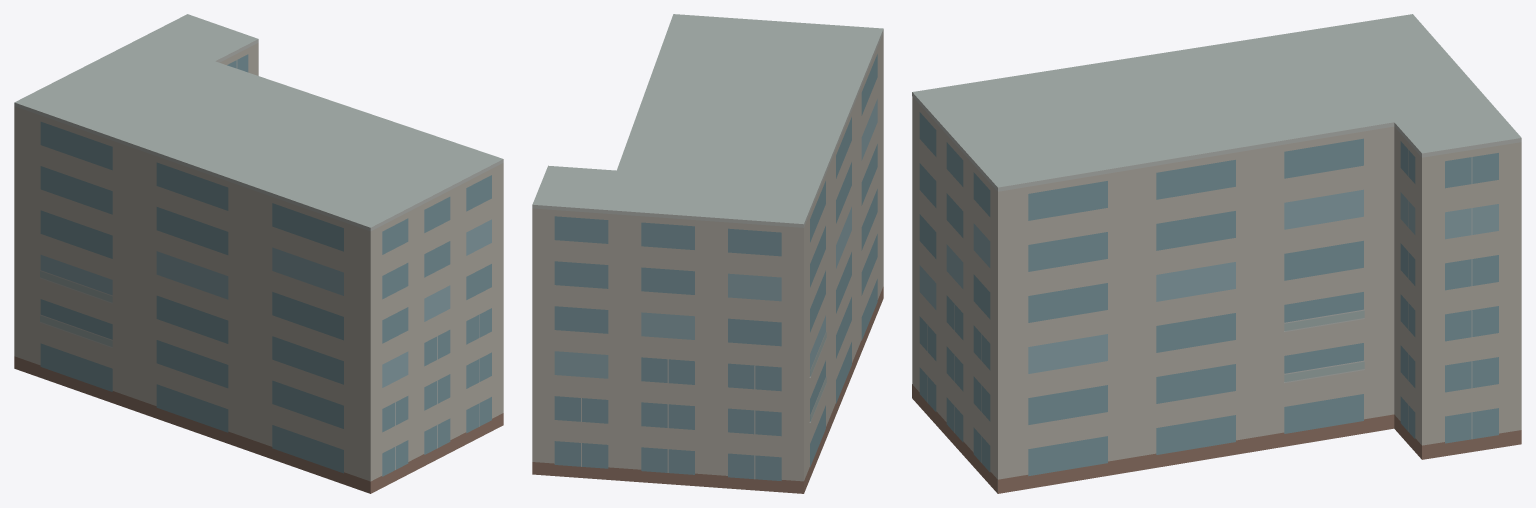
The model's file is survey-upis-33022928.glb.
3 views of the same model, side by side, from view 1: azimuth 30°, elevation 25°; view 2: azimuth 150°, elevation 25°; view 3: azimuth 270°, elevation 25° (orthographic). The views are drawn at different scales.
Parts seen in each view (by area): view 1: survey-upis-33022928.tmp; view 2: survey-upis-33022928.tmp; view 3: survey-upis-33022928.tmp.
Part boxes in pixels (x1,y1,x2,y2): survey-upis-33022928.tmp: [14, 14, 503, 493]; survey-upis-33022928.tmp: [532, 14, 883, 493]; survey-upis-33022928.tmp: [912, 14, 1521, 493].
Size of the model in its own units: 21.64 by 17.8 by 32.11.
